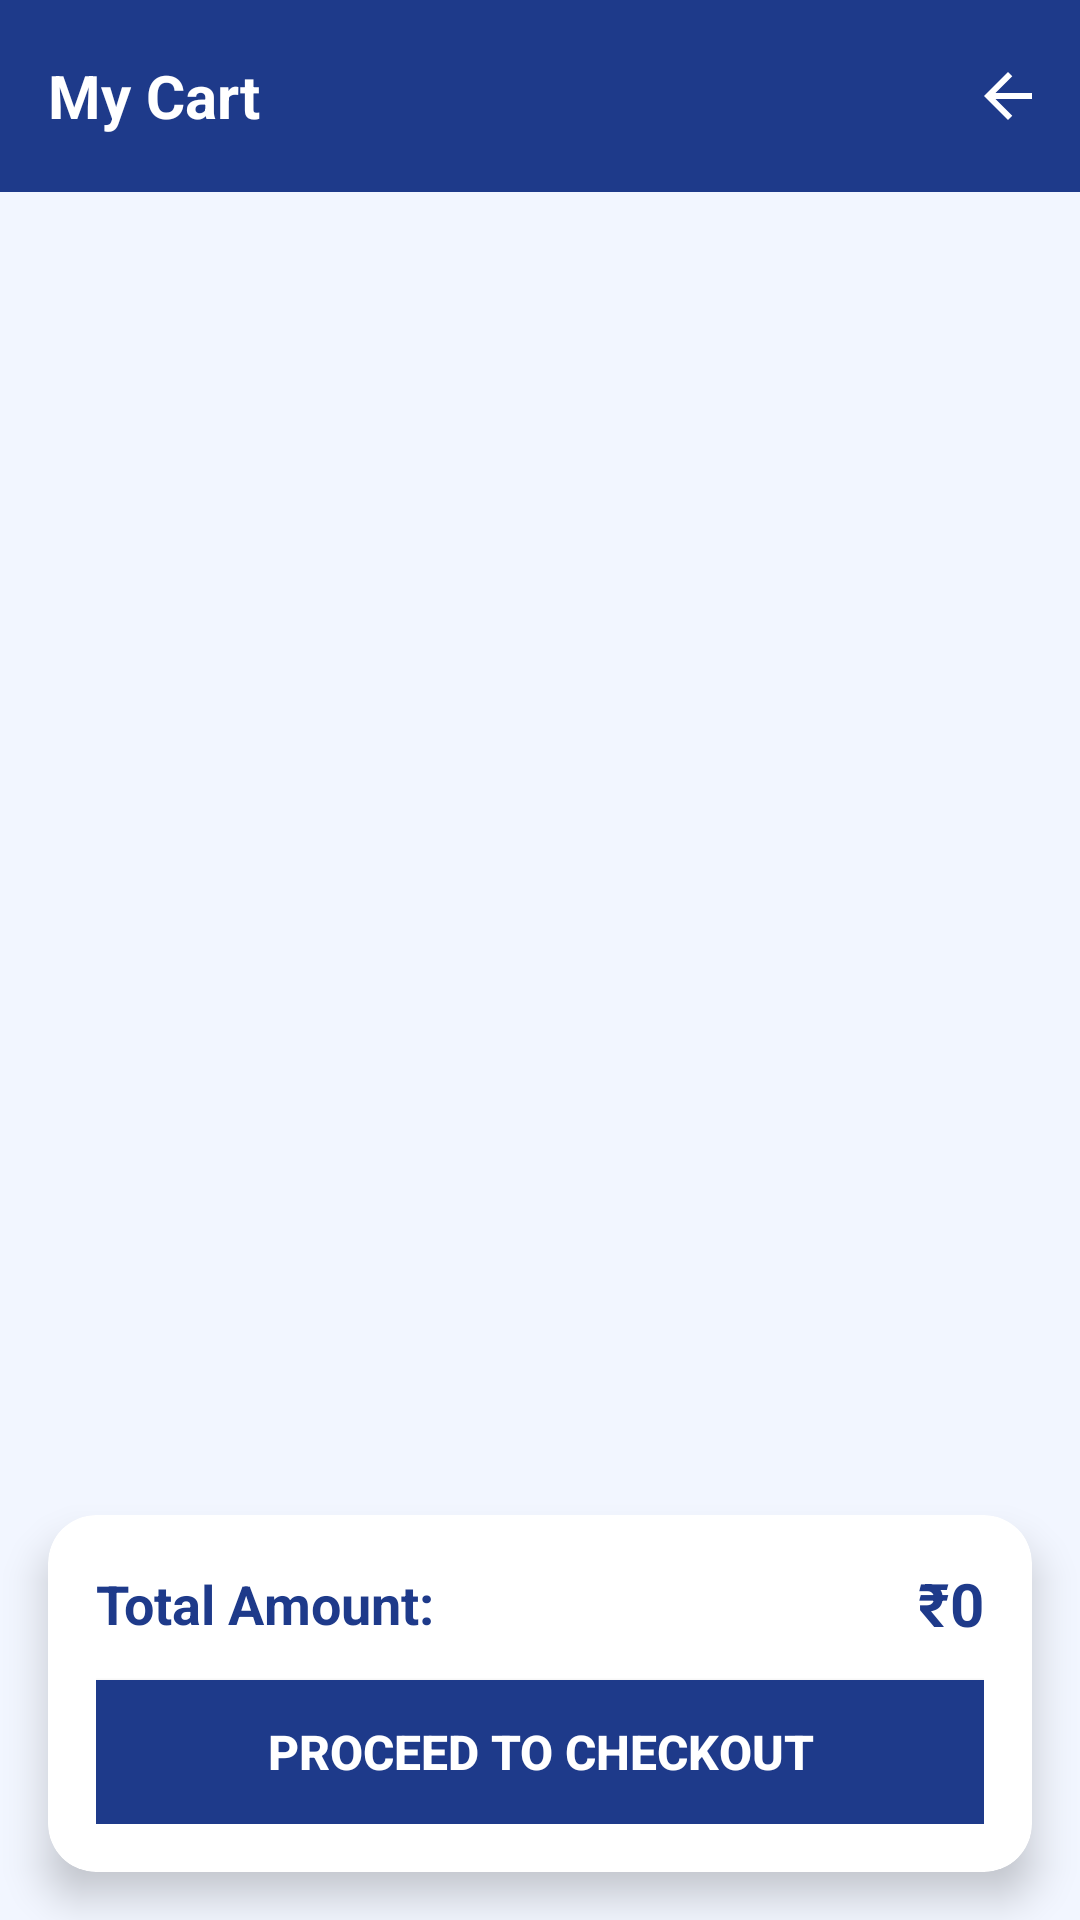

Screen size 1080w x 1920h. Icon name, then its box in pixels as {"left": x1, "top": y1, "right": x2, "bottom": y2}:
Back: {"left": 984, "top": 72, "right": 1032, "bottom": 120}
